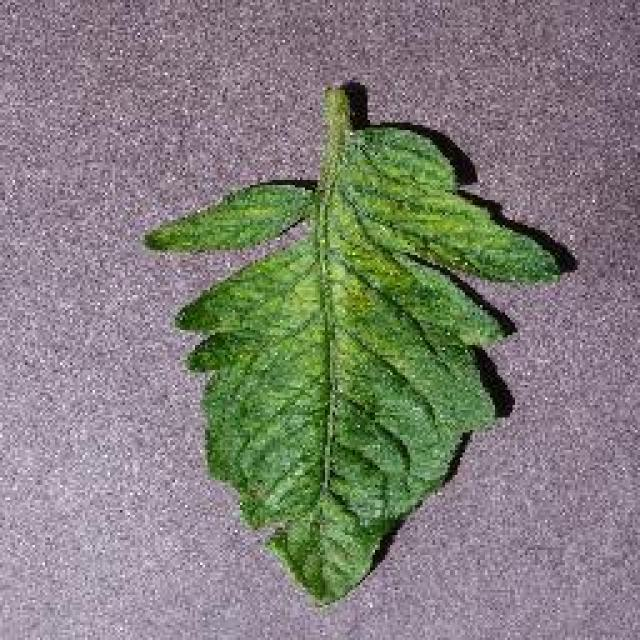Tomato spider mites leaf: (150, 119, 565, 604)
